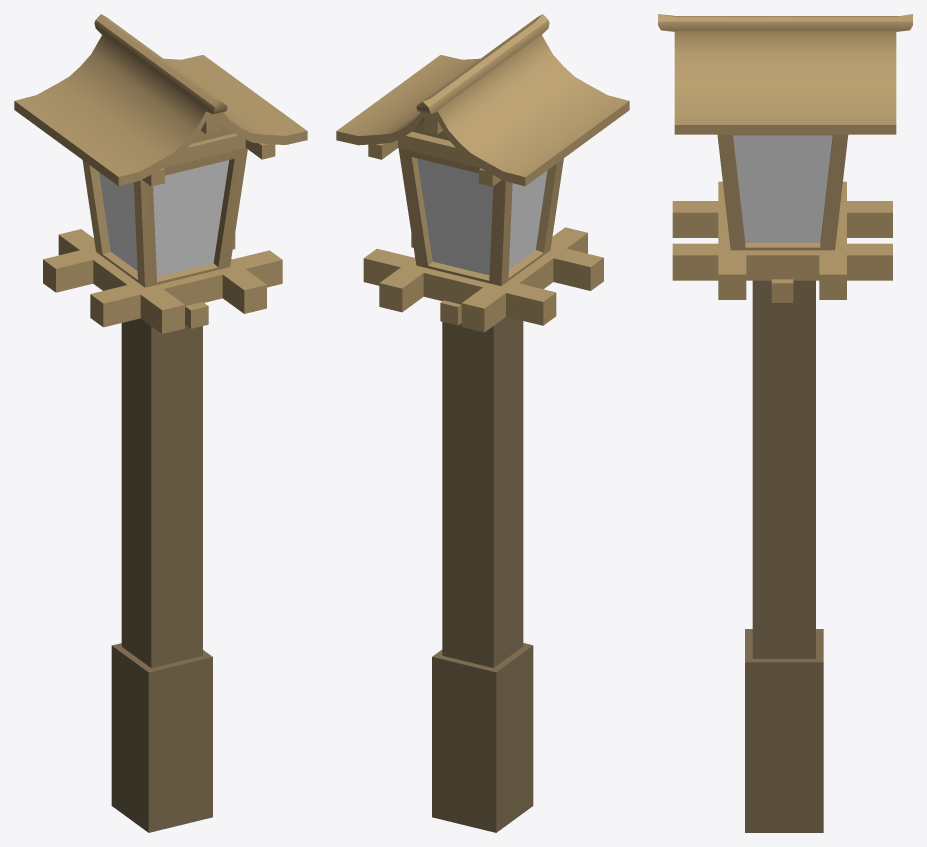
File: lamp.fbx
The picture shows the model from 3 angles, left to right: view 1: azimuth 30°, elevation 25°; view 2: azimuth 150°, elevation 25°; view 3: azimuth 270°, elevation 25°; orthographic projection. The views are drawn at different scales.
Parts seen in each view (by area): view 1: lamp; view 2: lamp; view 3: lamp.
Boxes of the visible parts, x1,y1,x2,y2 form: lamp: (14,14,307,832); lamp: (336,14,629,832); lamp: (658,14,912,832).
Size of the model in its own units: 25.45 by 97.01 by 27.94.
